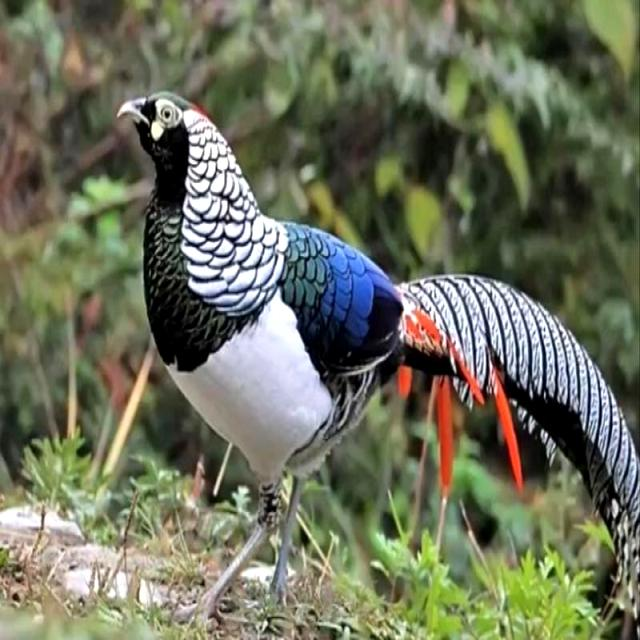Chrysolophus amherstiae: (400, 275, 639, 595)
